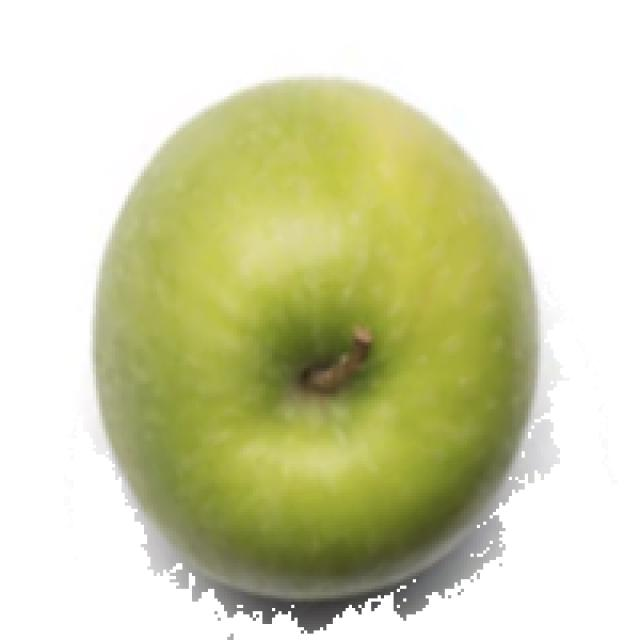apple: (77, 70, 566, 634)
